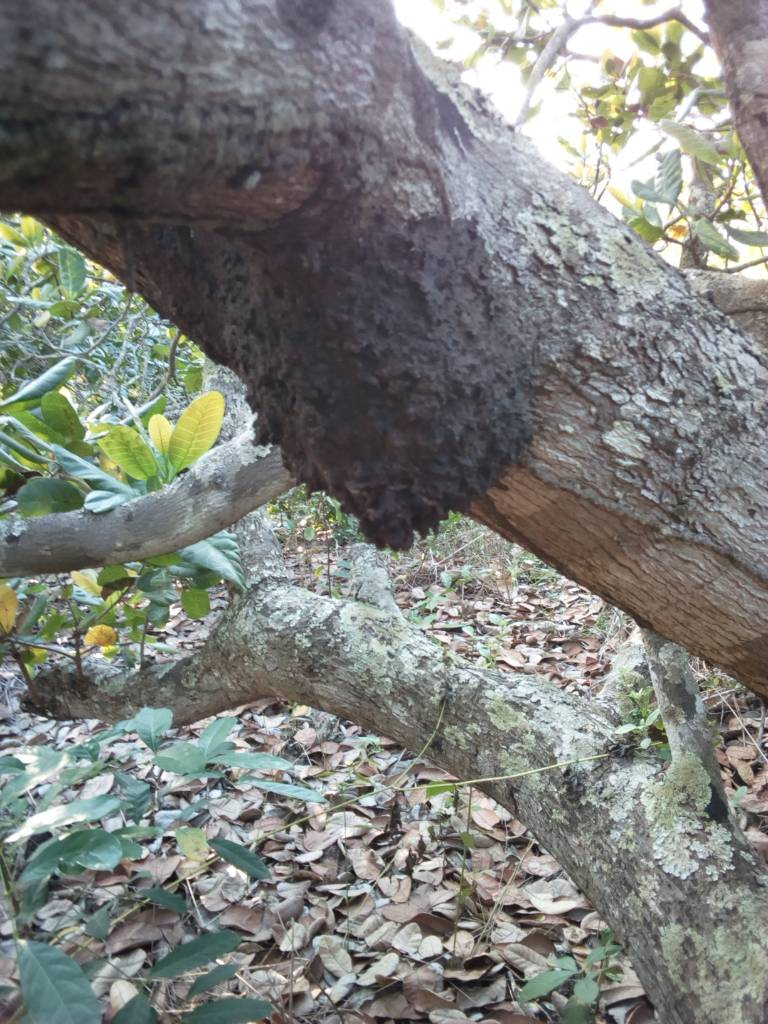Termites: (225, 228, 561, 546)
